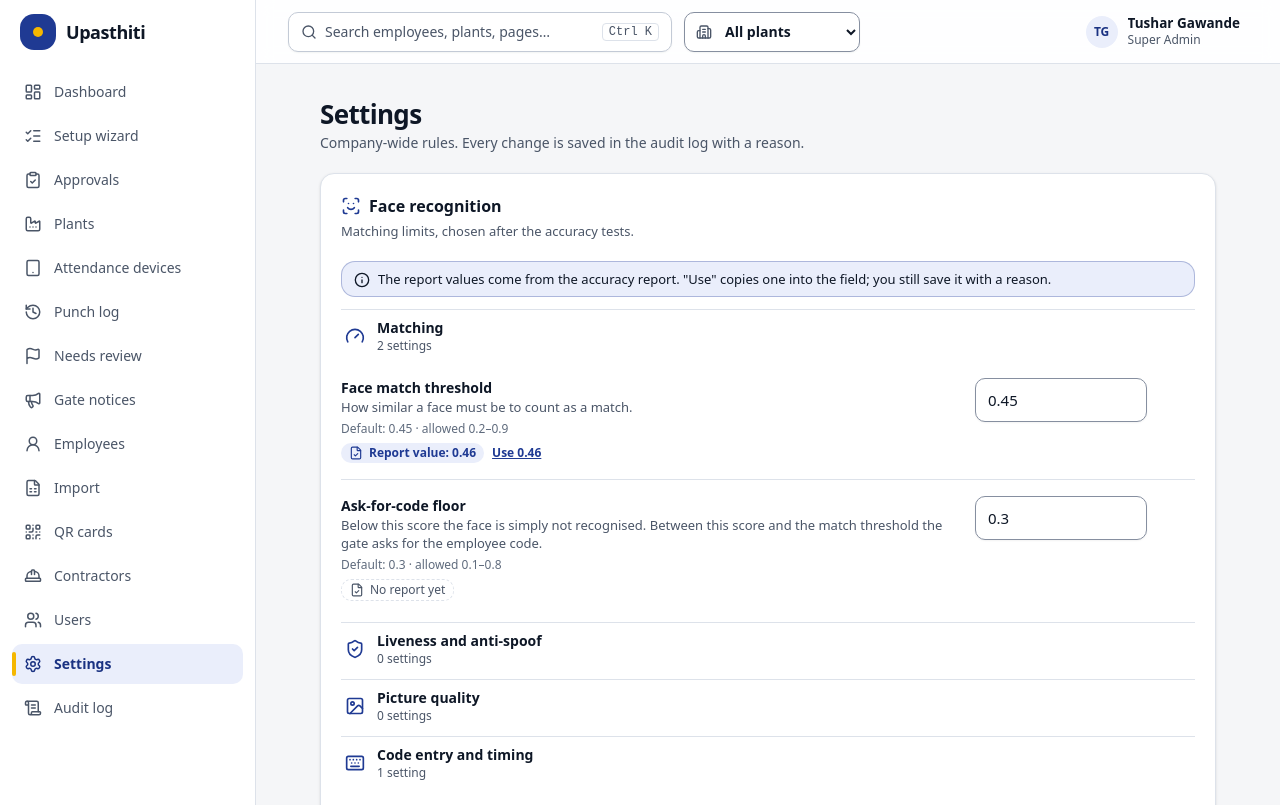
face and privacy settings (spec M3 §4.12) › shows the report value beside a threshold, and 'No report yet' where there is none
Expected: the text "Report value: 0.46" is shown, [341,443,484,463]
Expected: the text "No report yet" is shown, [341,579,454,601]
Click the button "Use 0.46" at x=517, y=453, box [492,445,541,461]
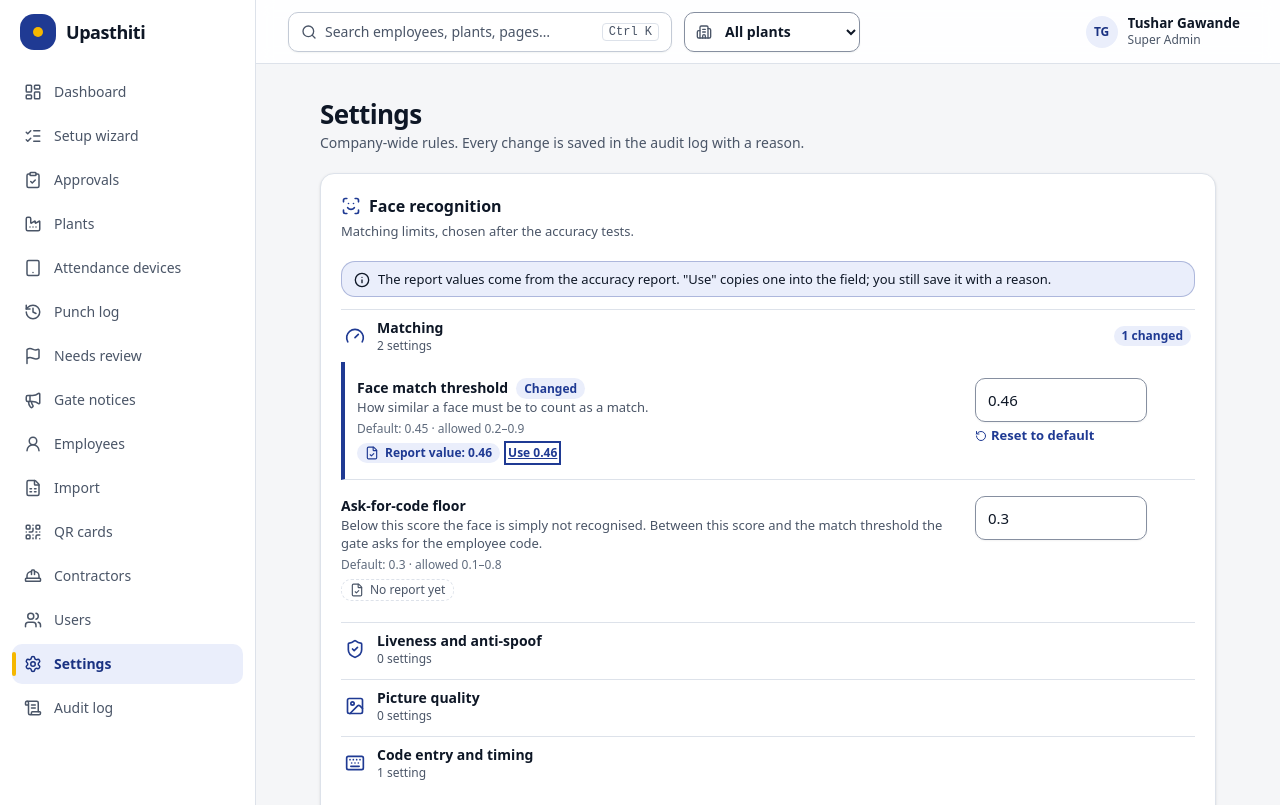
Result: the field labelled "Face match threshold" holds "0.46" at [975,378,1147,422]
